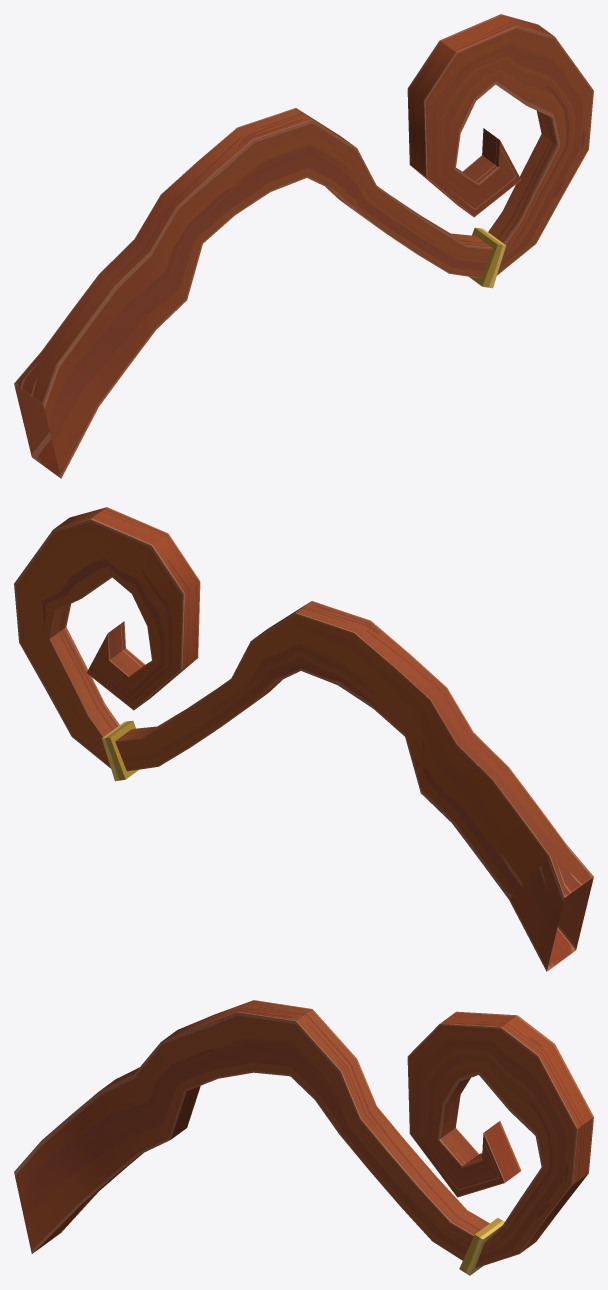
Rendered from lanterne_baton.fbx.
3 renders of one model, top to bottom at view 1: azimuth 30°, elevation 25°; view 2: azimuth 150°, elevation 25°; view 3: azimuth 330°, elevation 25°, orthographic.
Parts seen in each view (by area): view 1: baton_lanterne; view 2: baton_lanterne; view 3: baton_lanterne.
Part boxes in pixels (x1,y1,x2,y2): baton_lanterne: (14,14,593,478); baton_lanterne: (14,507,593,971); baton_lanterne: (14,1000,593,1275).
Size of the model in its own units: 7.63 by 4.39 by 0.699.
